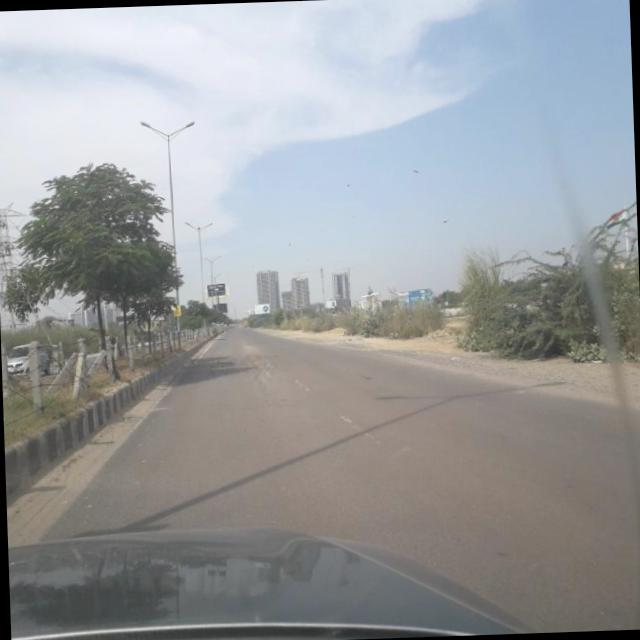pothole: (240, 334, 280, 394)
